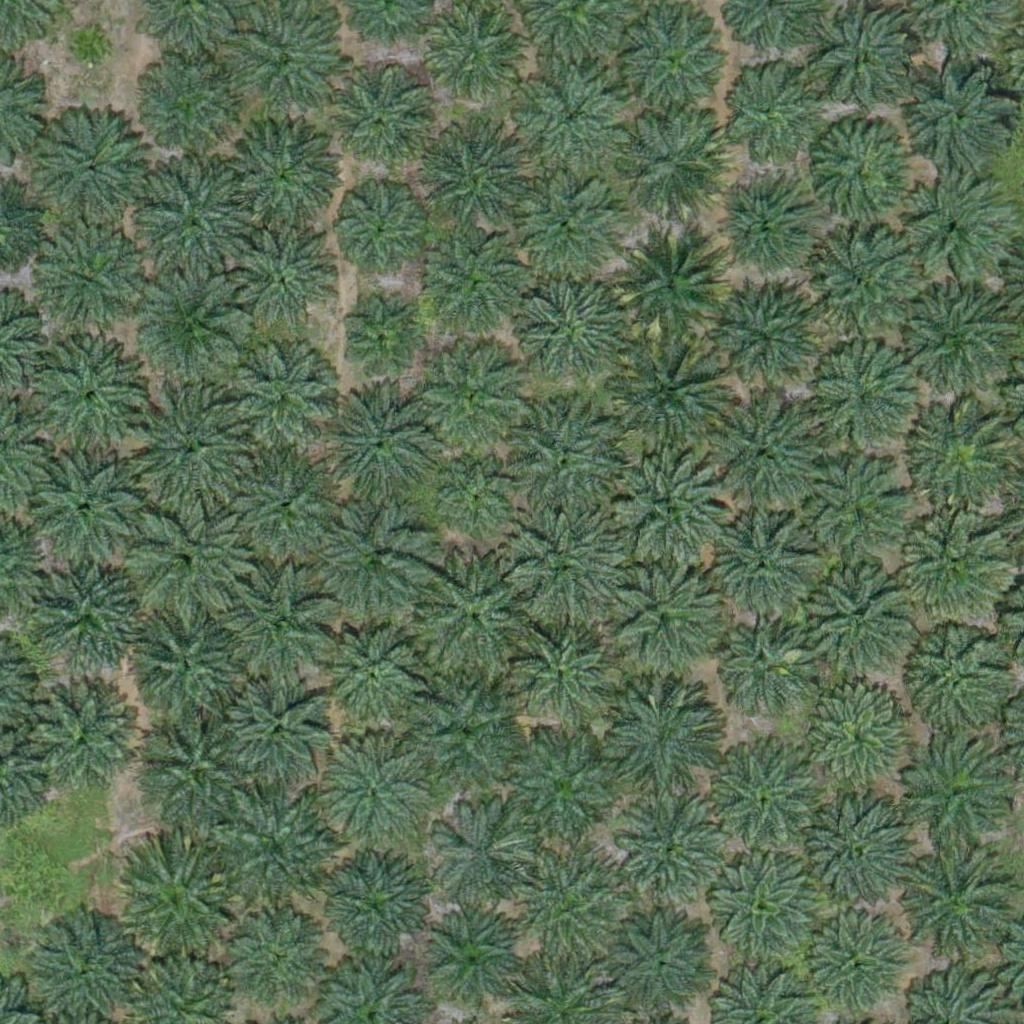Kelapa_Sawit: (133, 163, 258, 289), (126, 384, 251, 510), (122, 499, 247, 625), (418, 555, 543, 681), (504, 402, 629, 528), (113, 843, 238, 968), (509, 277, 622, 391), (420, 120, 533, 234), (227, 450, 340, 564), (224, 343, 337, 457), (706, 853, 819, 967), (600, 908, 713, 1022), (900, 290, 1013, 403), (806, 228, 919, 341), (135, 271, 248, 384), (29, 225, 142, 338), (32, 107, 145, 220), (223, 675, 336, 788), (220, 571, 333, 684), (319, 855, 432, 968), (510, 507, 623, 620), (604, 684, 717, 797), (607, 564, 720, 677), (612, 460, 725, 573), (709, 743, 822, 856), (319, 391, 431, 505), (321, 505, 433, 619), (409, 684, 521, 798), (504, 735, 616, 849), (618, 794, 730, 908), (901, 176, 1013, 289), (903, 59, 1015, 172), (711, 287, 823, 400), (617, 6, 729, 119), (613, 106, 725, 219), (618, 231, 730, 344), (514, 61, 626, 174), (225, 115, 337, 228), (27, 681, 139, 794), (34, 556, 146, 669), (26, 453, 138, 566), (31, 343, 143, 456), (131, 613, 243, 726), (138, 711, 250, 824), (220, 798, 332, 911), (508, 855, 620, 968), (613, 336, 725, 449), (708, 396, 820, 509), (704, 505, 816, 618), (796, 799, 908, 912), (802, 682, 914, 795), (803, 568, 915, 681), (901, 738, 1013, 851), (896, 852, 1008, 965), (812, 119, 912, 220), (717, 178, 817, 279), (720, 64, 820, 165), (234, 229, 334, 330), (139, 53, 239, 154), (327, 740, 427, 841), (421, 911, 521, 1012), (421, 353, 521, 454), (714, 609, 814, 710), (802, 452, 902, 553), (812, 343, 912, 444), (912, 401, 1012, 502), (904, 518, 1004, 619), (907, 627, 1007, 728), (225, 907, 325, 1008), (41, 919, 141, 1020), (518, 172, 618, 272), (424, 10, 524, 110), (426, 232, 526, 332), (320, 623, 420, 723), (427, 808, 527, 908), (513, 619, 613, 719), (809, 914, 909, 1014), (337, 188, 425, 276), (339, 83, 427, 171), (340, 303, 415, 379), (442, 462, 517, 538), (65, 24, 115, 74)
